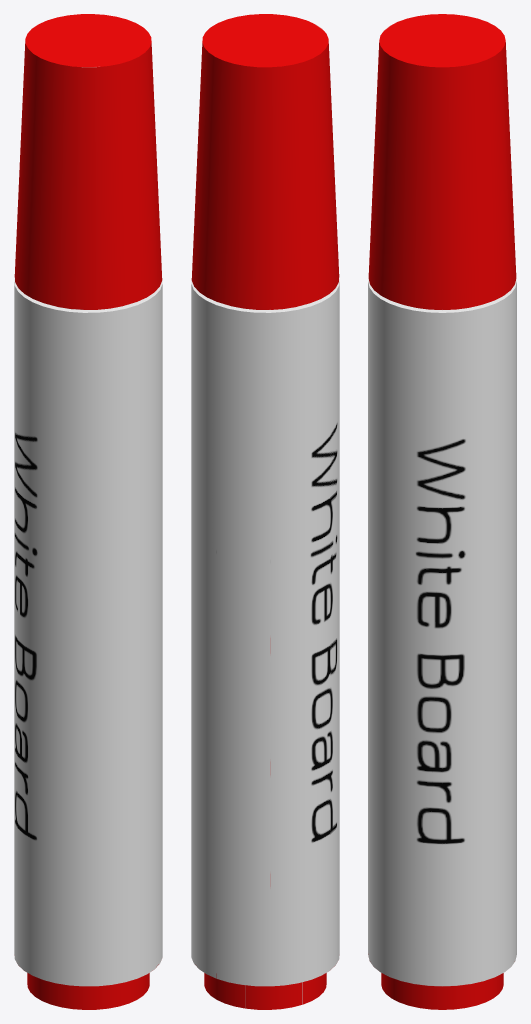
The model's file is RedMarker.fbx.
The picture shows the model from 3 angles, left to right: view 1: azimuth 30°, elevation 25°; view 2: azimuth 150°, elevation 25°; view 3: azimuth 270°, elevation 25°; orthographic projection.
Visible parts, largest first — view 1: Marker, Cap, Cap.002; view 2: Marker, Cap, Cap.002; view 3: Marker, Cap, Cap.002.
Boxes of the visible parts, left/top/right/bottom form: Marker: left=14, top=277, right=162, bottom=986; Cap: left=14, top=14, right=162, bottom=309; Cap.002: left=27, top=305, right=149, bottom=1009; Marker: left=191, top=277, right=339, bottom=986; Cap: left=191, top=14, right=339, bottom=309; Cap.002: left=204, top=305, right=326, bottom=1009; Marker: left=368, top=279, right=516, bottom=986; Cap: left=368, top=14, right=516, bottom=309; Cap.002: left=381, top=305, right=503, bottom=1009.
Bounding box in the file's own units: 3.1 × 21.73 × 3.1.
1 material, 1 textured.
